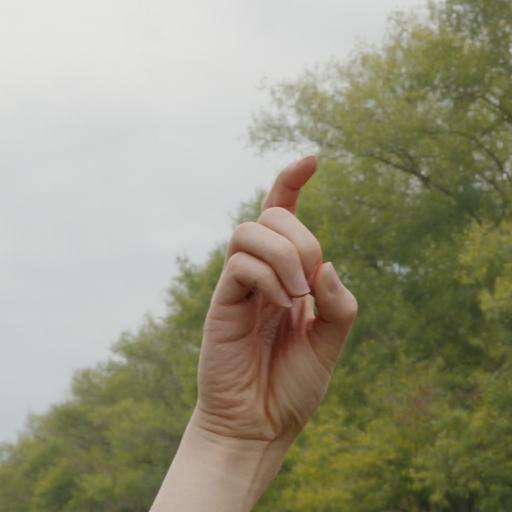X: (188, 152, 367, 455)
